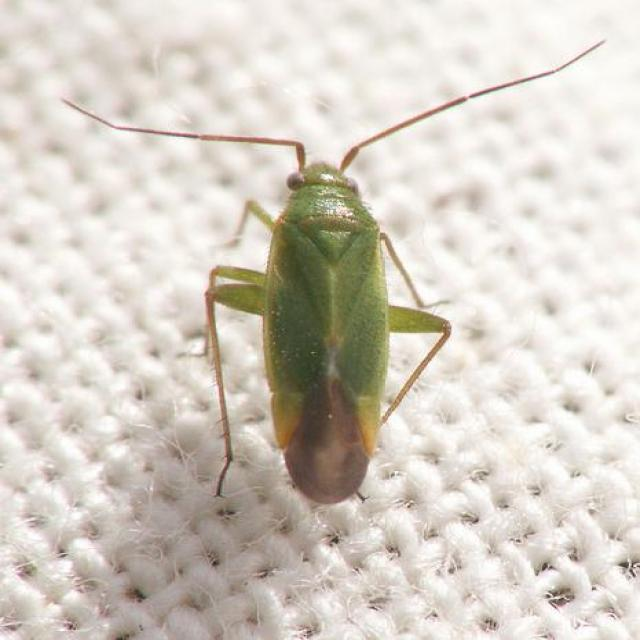Miridae-Adult-: (105, 43, 518, 520)
